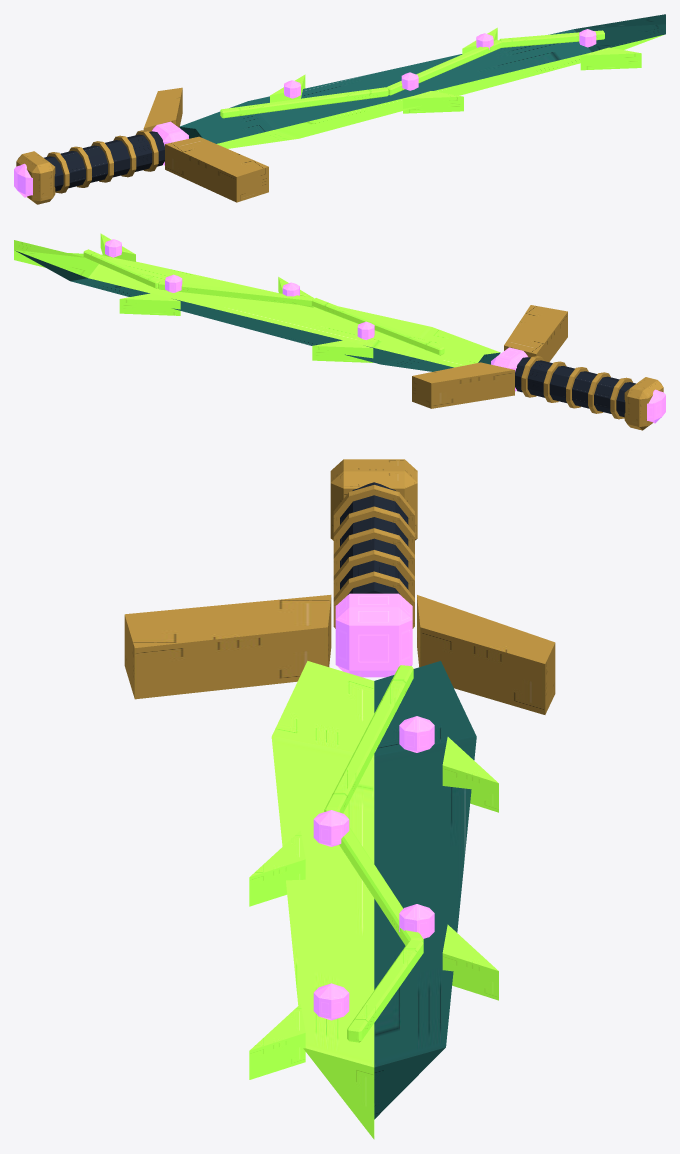
Rendered from thorn.glb.
3 renders of one model, top to bottom at view 1: azimuth 30°, elevation 25°; view 2: azimuth 150°, elevation 25°; view 3: azimuth 270°, elevation 25°, orthographic. The views are drawn at different scales.
Visible parts, largest first — view 1: blade, grip, guard; view 2: blade, guard, grip; view 3: blade, guard, grip.
Part boxes in pixels (x1,y1,x2,y2): blade: (179,14,665,148); grip: (14,130,164,204); guard: (143,87,268,202); blade: (14,233,500,371); guard: (412,305,567,408); grip: (515,356,665,430); blade: (249,661,498,1139); guard: (124,593,555,714); grip: (330,459,417,628).
Size of the model in its own units: 0.8755 by 0.0575 by 0.252.
5 materials, 5 textured.
